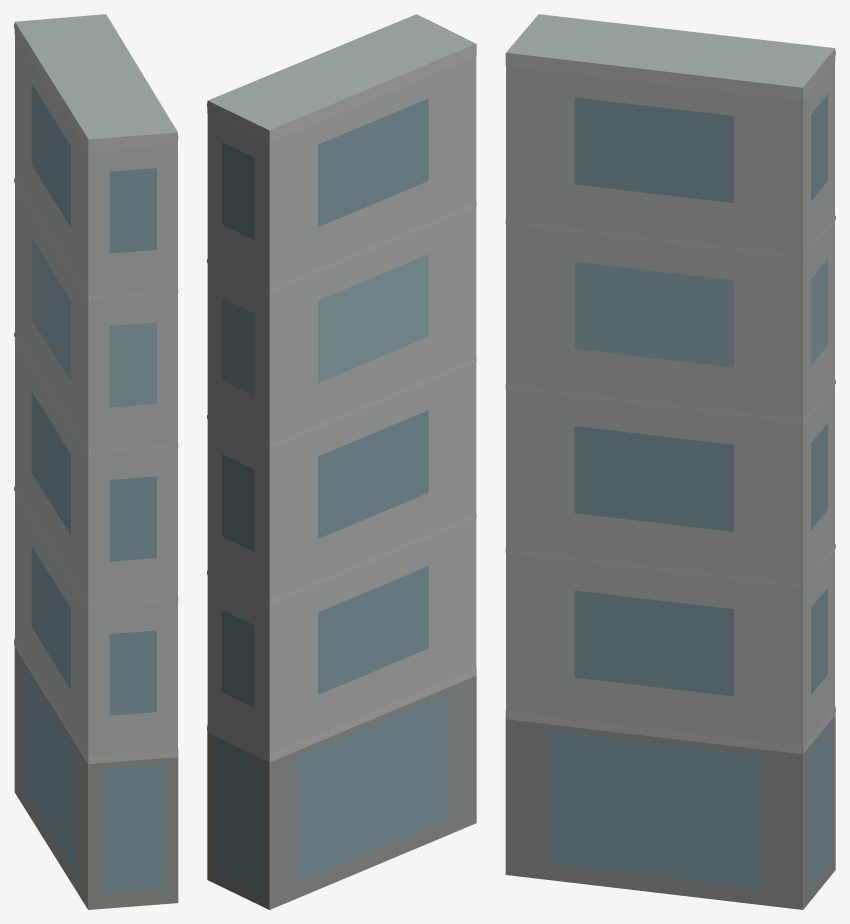
Rendered from survey-upis-32951117.glb.
3 views of the same model, side by side, from view 1: azimuth 30°, elevation 25°; view 2: azimuth 150°, elevation 25°; view 3: azimuth 270°, elevation 25° (orthographic). The views are drawn at different scales.
Parts seen in each view (by area): view 1: survey-upis-32951117.tmp; view 2: survey-upis-32951117.tmp; view 3: survey-upis-32951117.tmp.
Part boxes in pixels (x1,y1,x2,y2): survey-upis-32951117.tmp: [14, 14, 178, 909]; survey-upis-32951117.tmp: [207, 14, 476, 909]; survey-upis-32951117.tmp: [505, 14, 835, 909].
Bounding box in the file's own units: 2.96 × 15.25 × 5.56.
